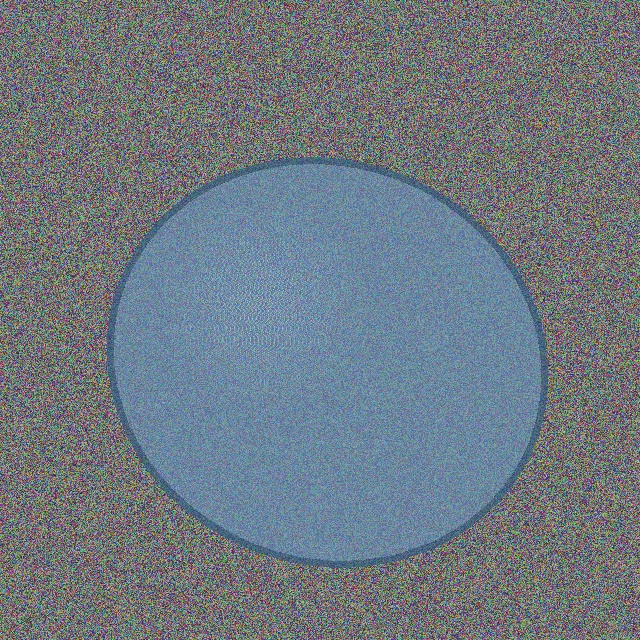lens: (110, 162, 544, 562)
